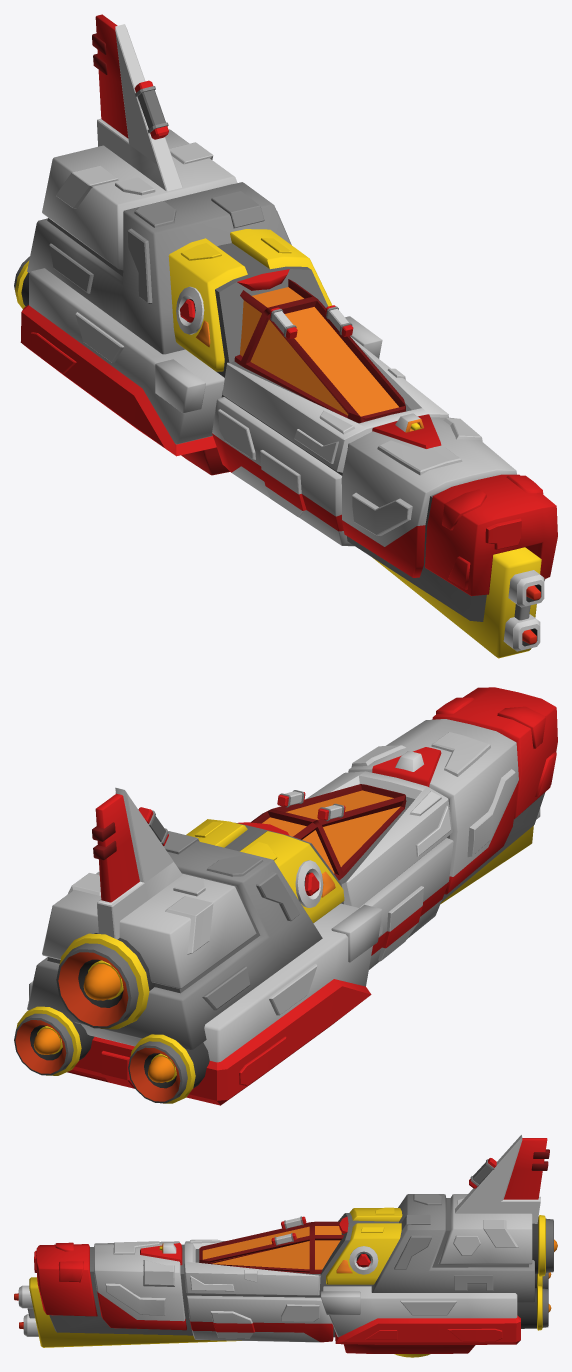
File: Body01.fbx
The picture shows the model from 3 angles, top to bottom: view 1: azimuth 30°, elevation 25°; view 2: azimuth 150°, elevation 25°; view 3: azimuth 270°, elevation 25°; orthographic projection. The views are drawn at different scales.
Parts seen in each view (by area): view 1: Body01; view 2: Body01; view 3: Body01.
Boxes of the visible parts, <box> form: Body01: <box>14,14,557,658</box>; Body01: <box>14,687,557,1105</box>; Body01: <box>14,1135,557,1357</box>.
Bounding box in the file's own units: 325 × 1185 × 512.
